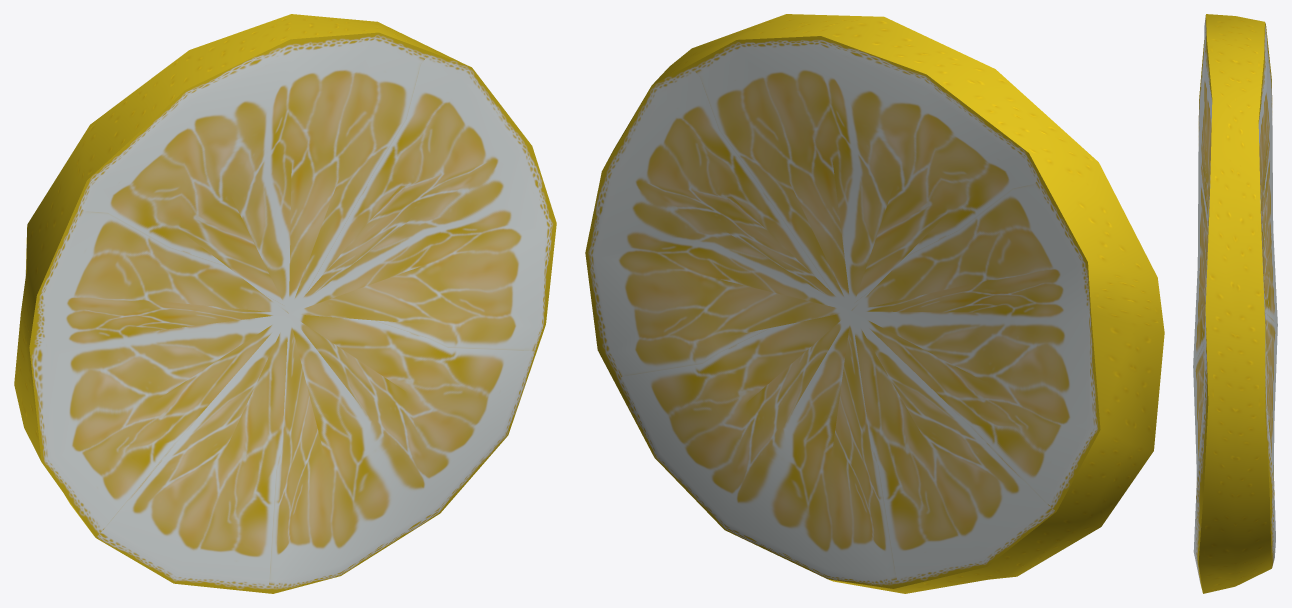
Rendered from LemonSlice.fbx.
The picture shows the model from 3 angles, left to right: view 1: azimuth 30°, elevation 25°; view 2: azimuth 150°, elevation 25°; view 3: azimuth 270°, elevation 25°; orthographic projection. The views are drawn at different scales.
Parts seen in each view (by area): view 1: LemonSlice; view 2: LemonSlice; view 3: LemonSlice.
Boxes of the visible parts, <box> form: LemonSlice: <box>14,14,556,593</box>; LemonSlice: <box>585,14,1164,593</box>; LemonSlice: <box>1193,14,1277,593</box>.
Bounding box in the file's own units: 18.82 × 18.48 × 2.72.
